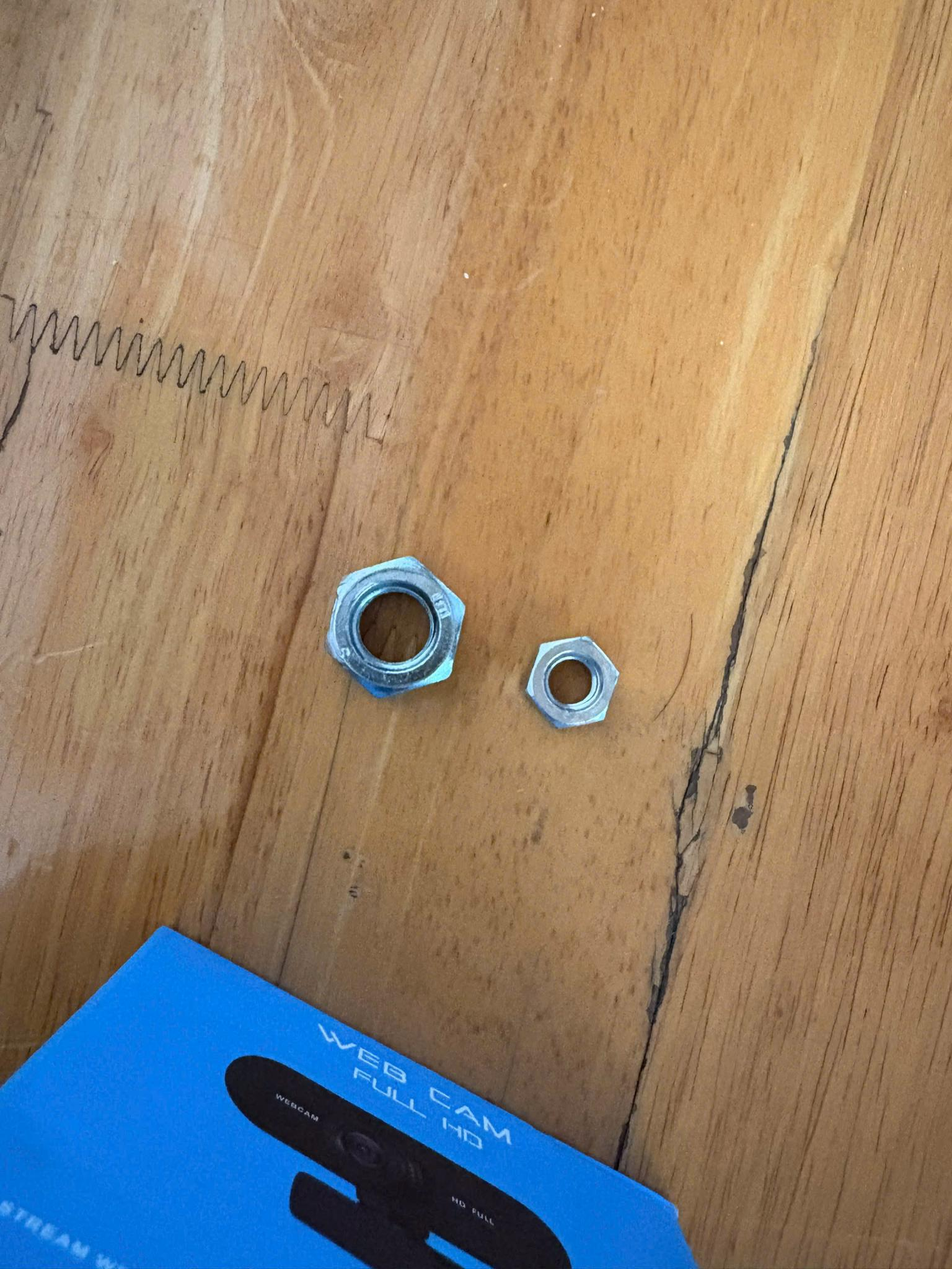nut: (307, 546, 484, 716), (516, 628, 637, 740)
